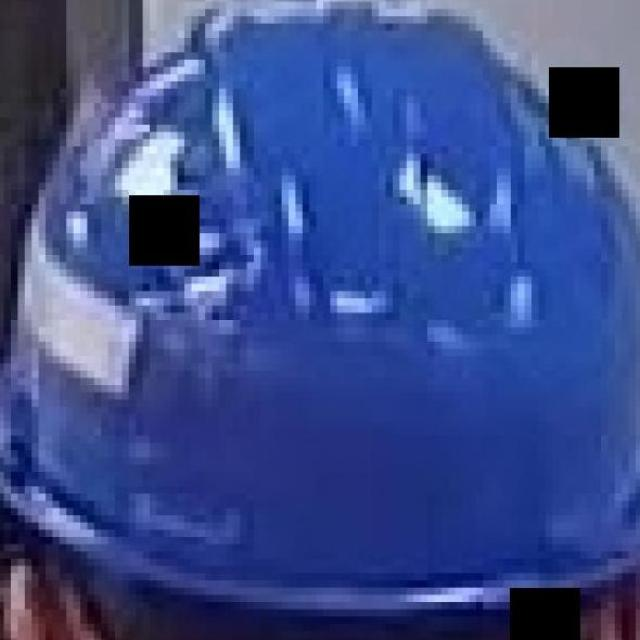blue helmet: (1, 8, 640, 611)
